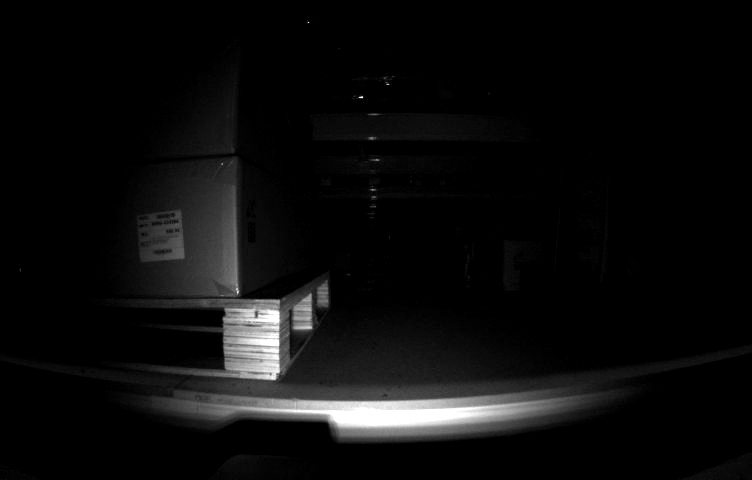True Barcode: (134, 214, 188, 260)
